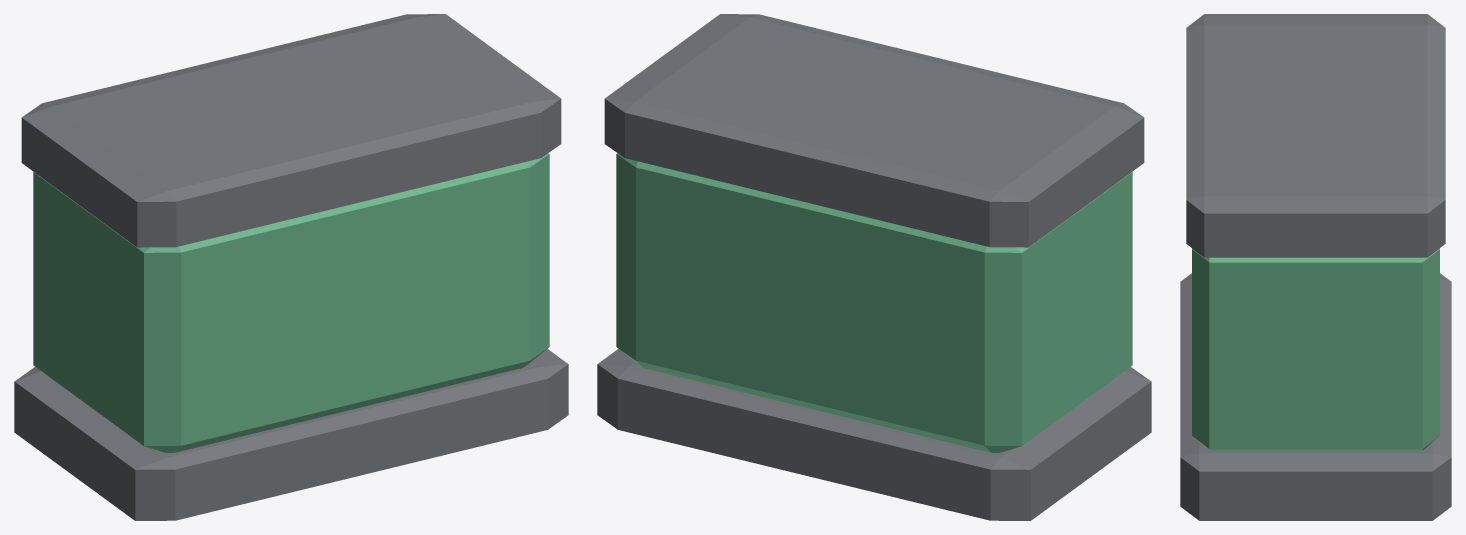
File: b04_rear_load_rolling_dumpster.glb
3 views of the same model, side by side, from view 1: azimuth 30°, elevation 25°; view 2: azimuth 150°, elevation 25°; view 3: azimuth 270°, elevation 25° (orthographic). The views are drawn at different scales.
Visible parts, largest first — view 1: b04_rear_load_rolling_dumpster; view 2: b04_rear_load_rolling_dumpster; view 3: b04_rear_load_rolling_dumpster.
Boxes of the visible parts, box(x1,y1,x2,y2) form: b04_rear_load_rolling_dumpster: box(14, 14, 568, 520); b04_rear_load_rolling_dumpster: box(597, 14, 1151, 520); b04_rear_load_rolling_dumpster: box(1180, 14, 1451, 520).
Bounding box in the file's own units: 2.21 × 1.58 × 1.24.
